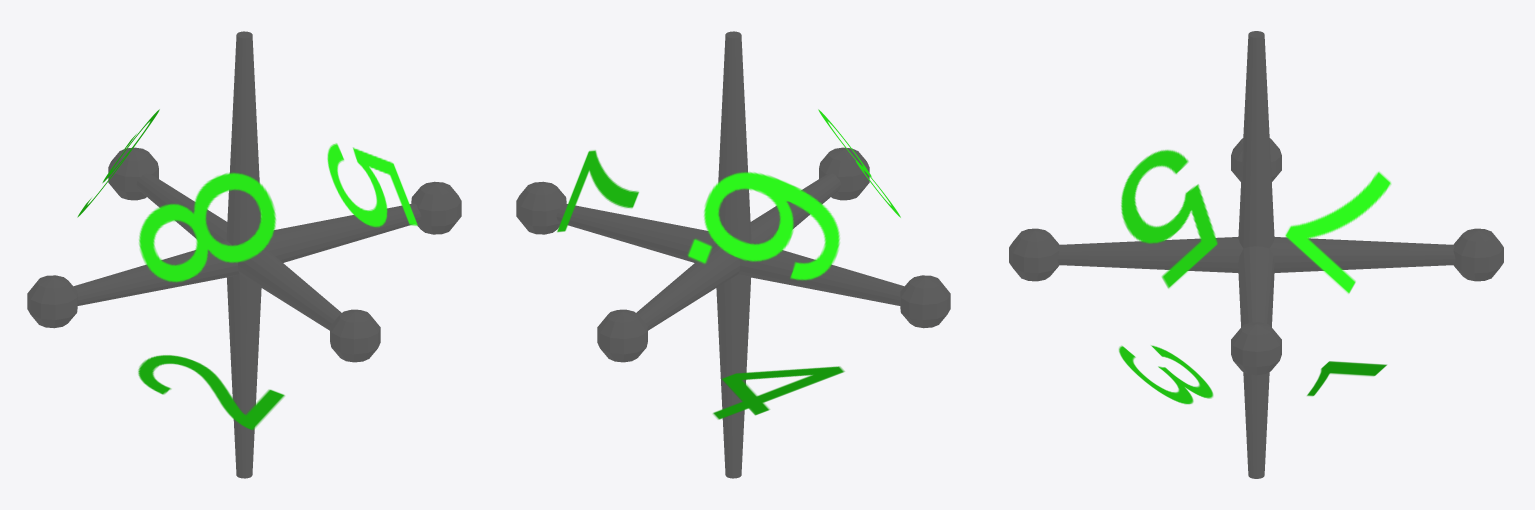
The model's file is DrMalloyDice_d8.glb.
The picture shows the model from 3 angles, left to right: view 1: azimuth 30°, elevation 25°; view 2: azimuth 150°, elevation 25°; view 3: azimuth 270°, elevation 25°; orthographic projection.
Parts seen in each view (by area): view 1: Mesh_0; view 2: Mesh_0; view 3: Mesh_0.
Boxes of the visible parts, <box> form: Mesh_0: <box>27,31,461,478</box>; Mesh_0: <box>516,31,950,478</box>; Mesh_0: <box>1009,31,1503,478</box>.
Bounding box in the file's own units: 196 × 196 × 196.
Materials: 2 (1 with a texture image).
